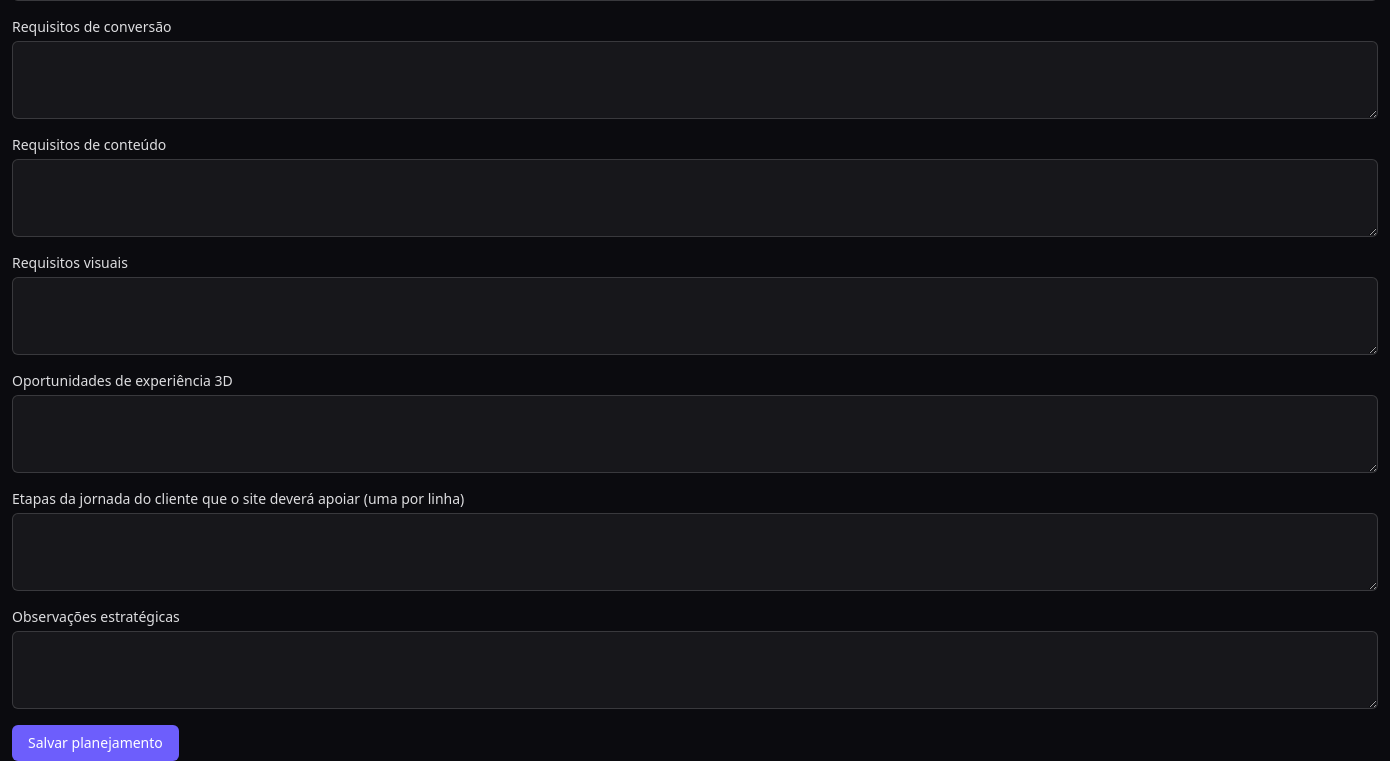
SitePlanForm › shows a pending state while the action is running
The image size is (1390, 761).
(page scrolled)
Click the button "Salvar planejamento". click: (95, 743)
box: x1=12 y1=725 x2=179 y2=760
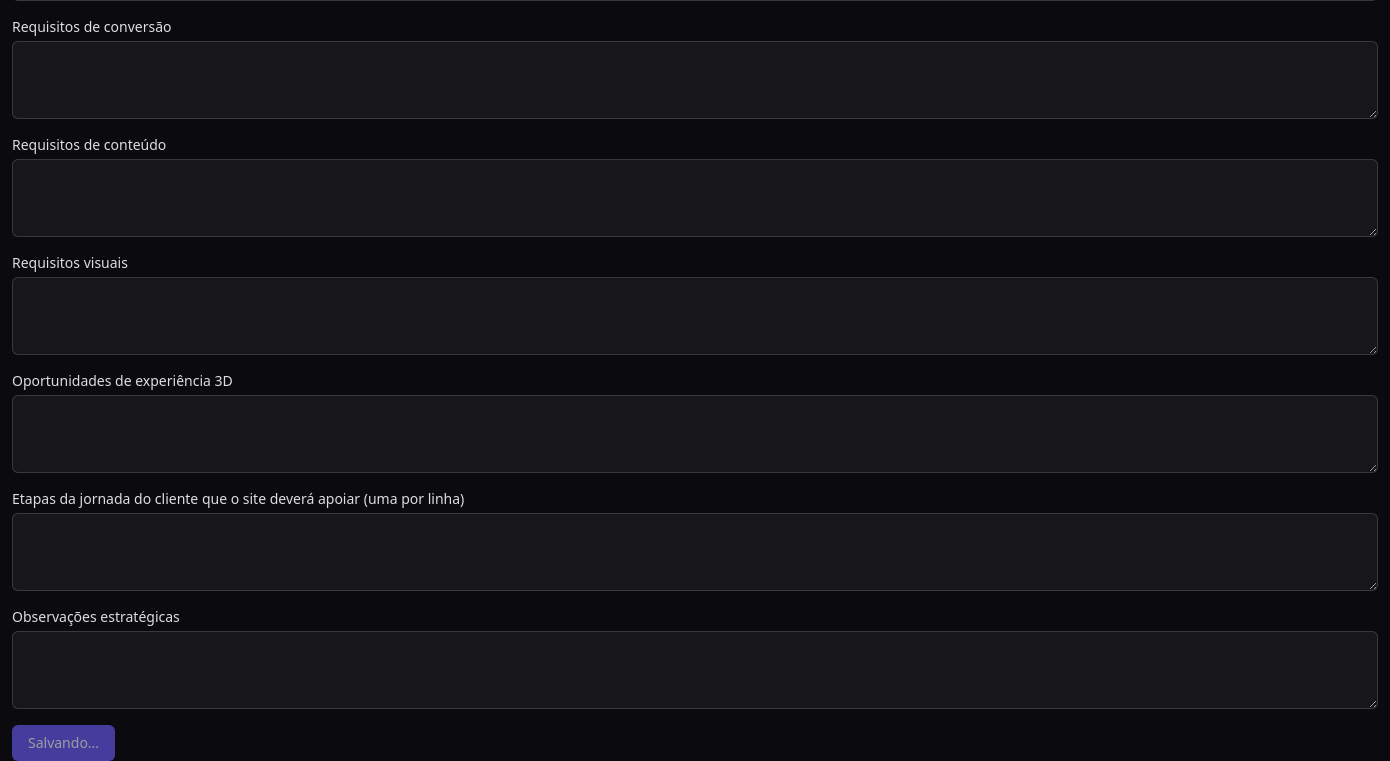
Now the button "Salvando..." is disabled, box x1=12 y1=725 x2=115 y2=760
